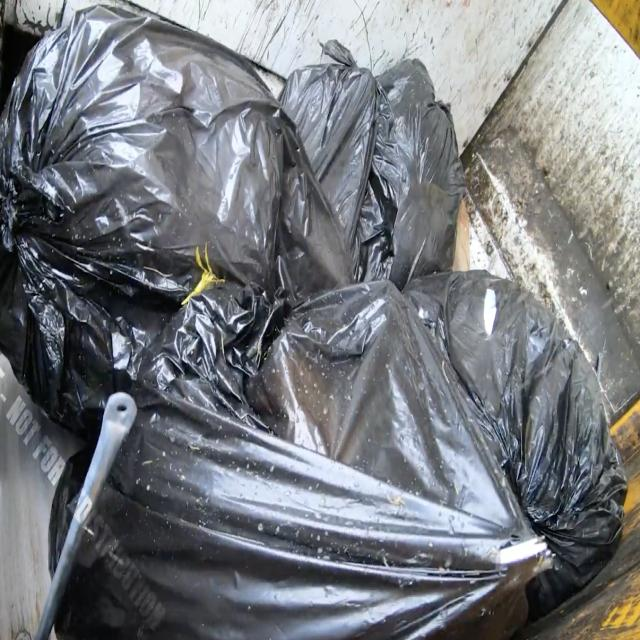bag: (146, 303, 616, 640), (0, 5, 342, 383), (279, 44, 480, 338)
metal: (33, 357, 141, 640)
